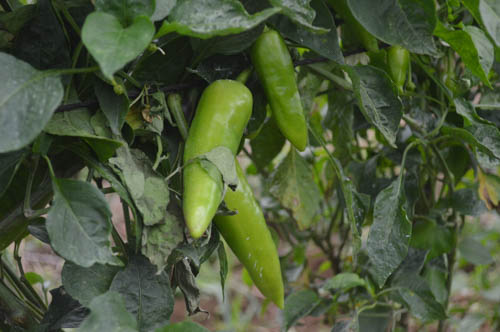ChiliPepper: (180, 81, 248, 245), (218, 174, 288, 313), (259, 32, 313, 150)
